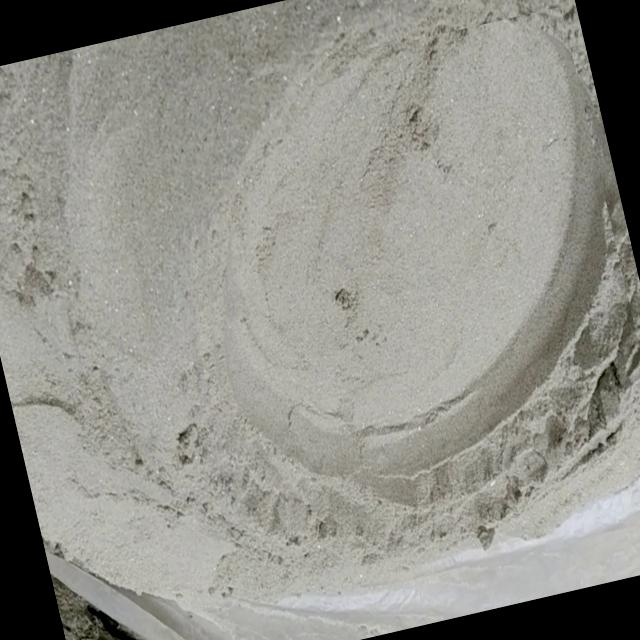C40: (212, 21, 607, 494)
